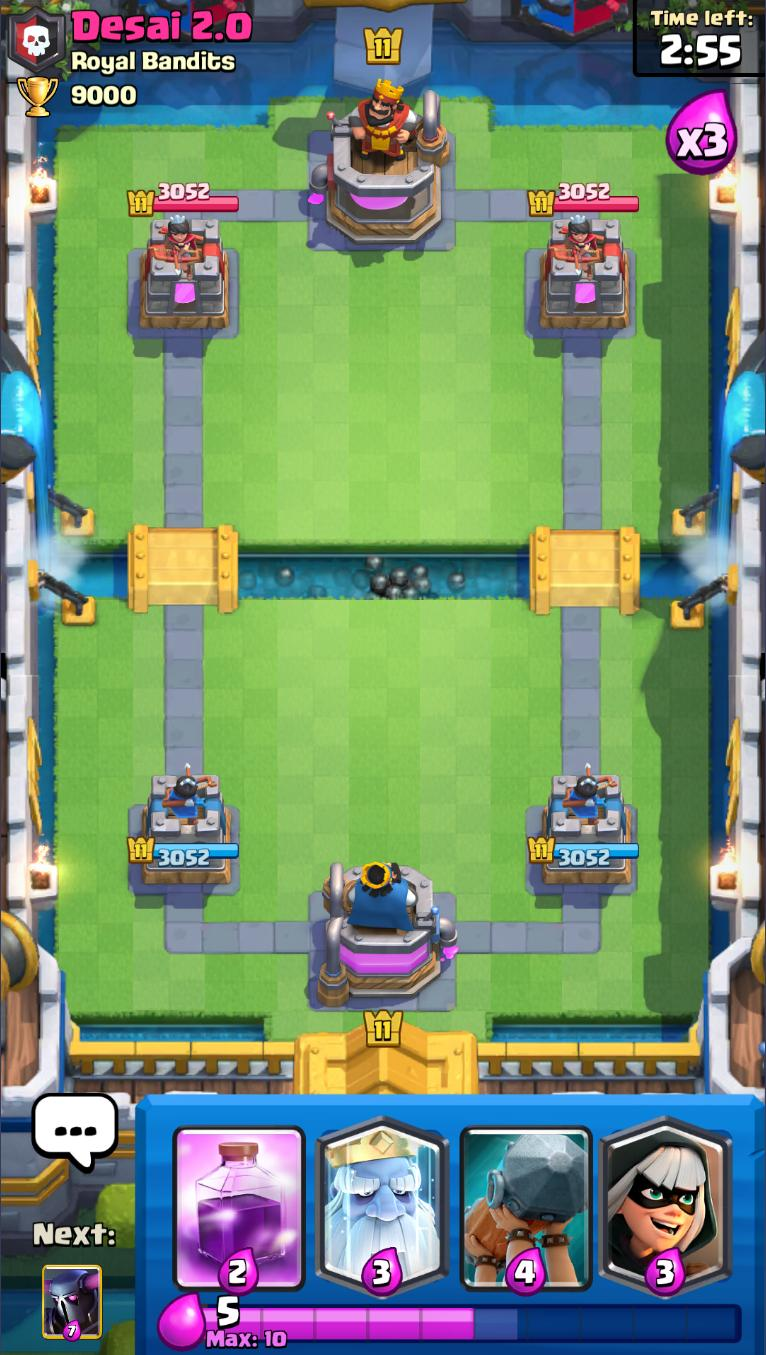BanditDeck: (597, 1097, 735, 1298)
BattleRamDeck: (455, 1099, 598, 1295)
Elixir: (203, 1296, 744, 1351)
EnemyTower: (135, 216, 234, 331), (537, 216, 633, 333)
KingTower: (307, 78, 453, 247)
MyKingTower: (315, 859, 460, 1009)
MyPrincessTower: (526, 770, 641, 890), (128, 772, 242, 890)
MyPrincessTowerHP: (127, 836, 241, 869), (525, 835, 641, 867)
PekkaNext: (41, 1262, 105, 1343)
RageDeck: (166, 1096, 312, 1295)
RoyaleGhostDeck: (312, 1101, 453, 1296)
TowerPrincessHP: (528, 182, 640, 219), (128, 182, 241, 218)
